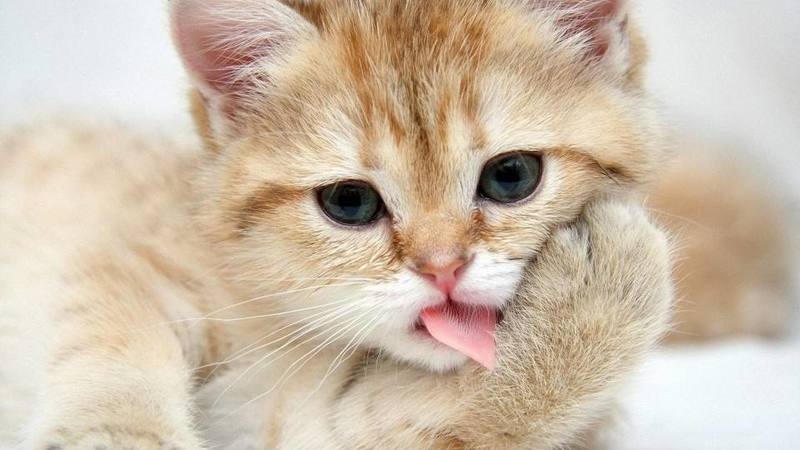cat: (157, 13, 737, 376)
